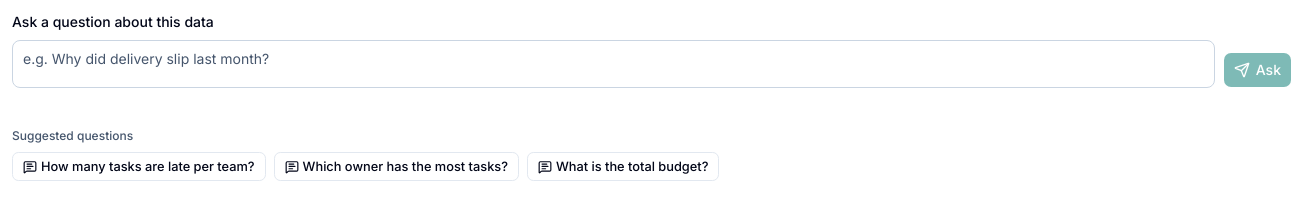
Test: QueryPanel › runs a suggested question end to end through the store
Step 1. Click the button "What is the total budget?" → point(623, 167), box [527, 152, 719, 181]
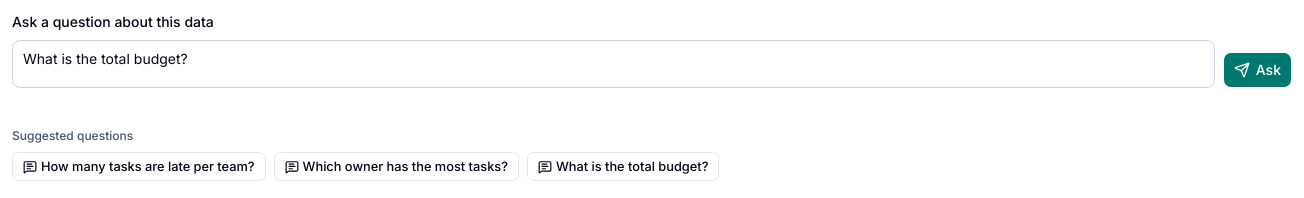
Expected: the text box is enabled, [12, 40, 1215, 88]
Result: the text box holds "What is the total budget?" at [12, 40, 1215, 88]
